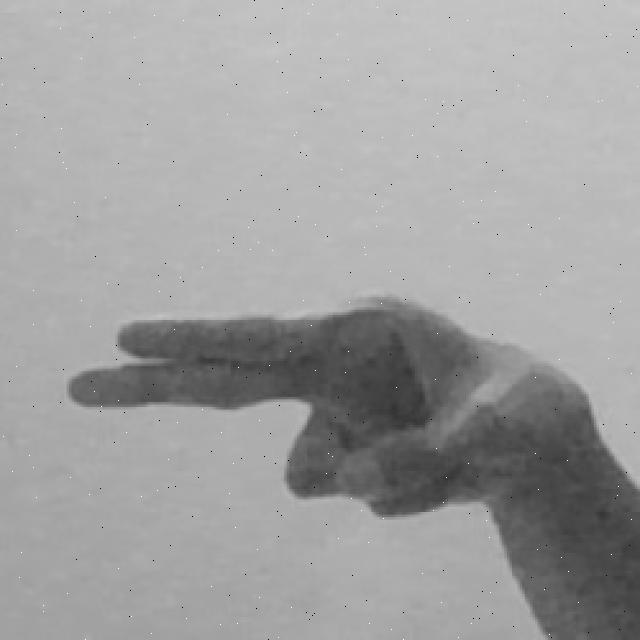H: (56, 284, 640, 640)
